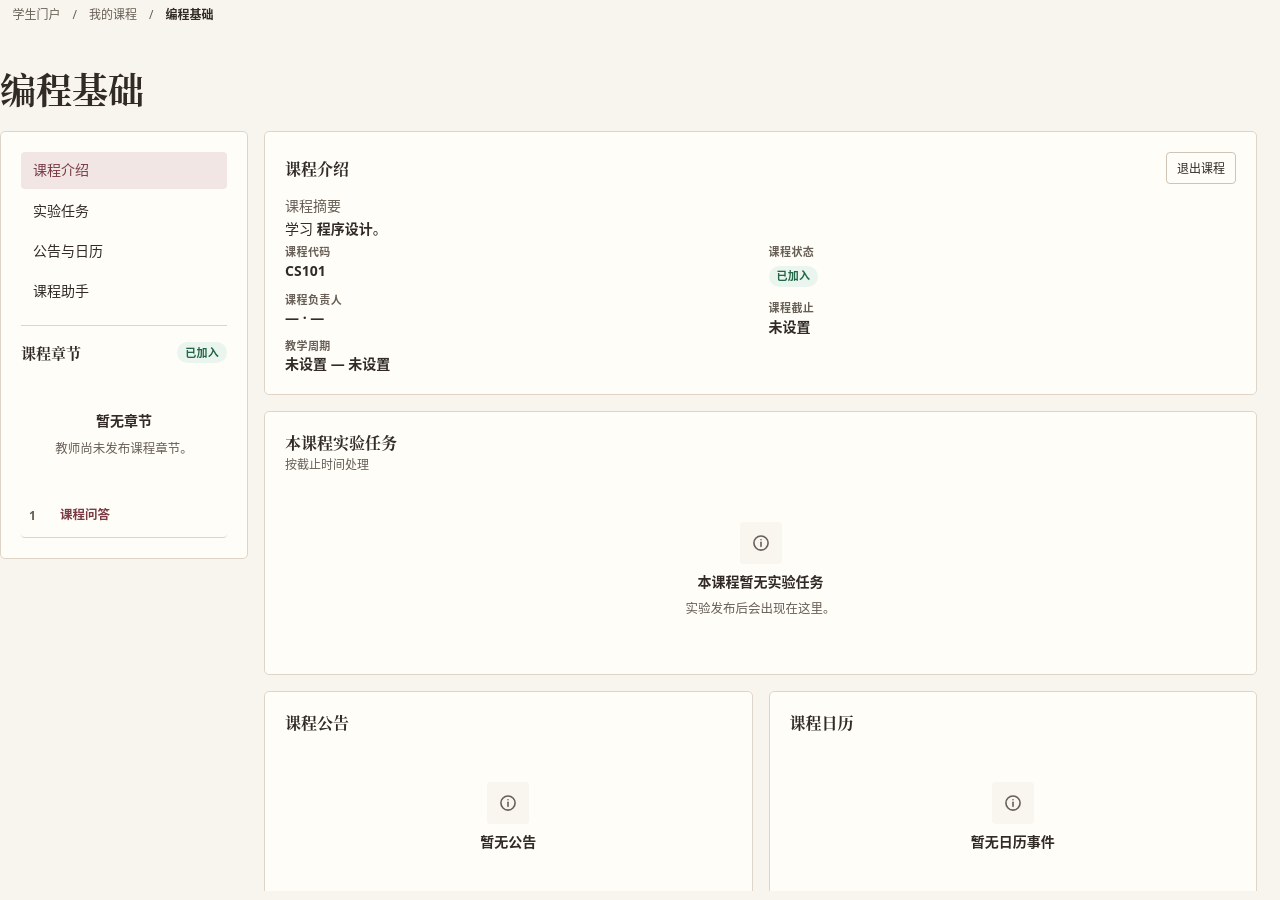
it: 课程详情中确认退出后返回课程列表
Click the button "退出课程" at [1201, 168], box [1166, 152, 1236, 184]
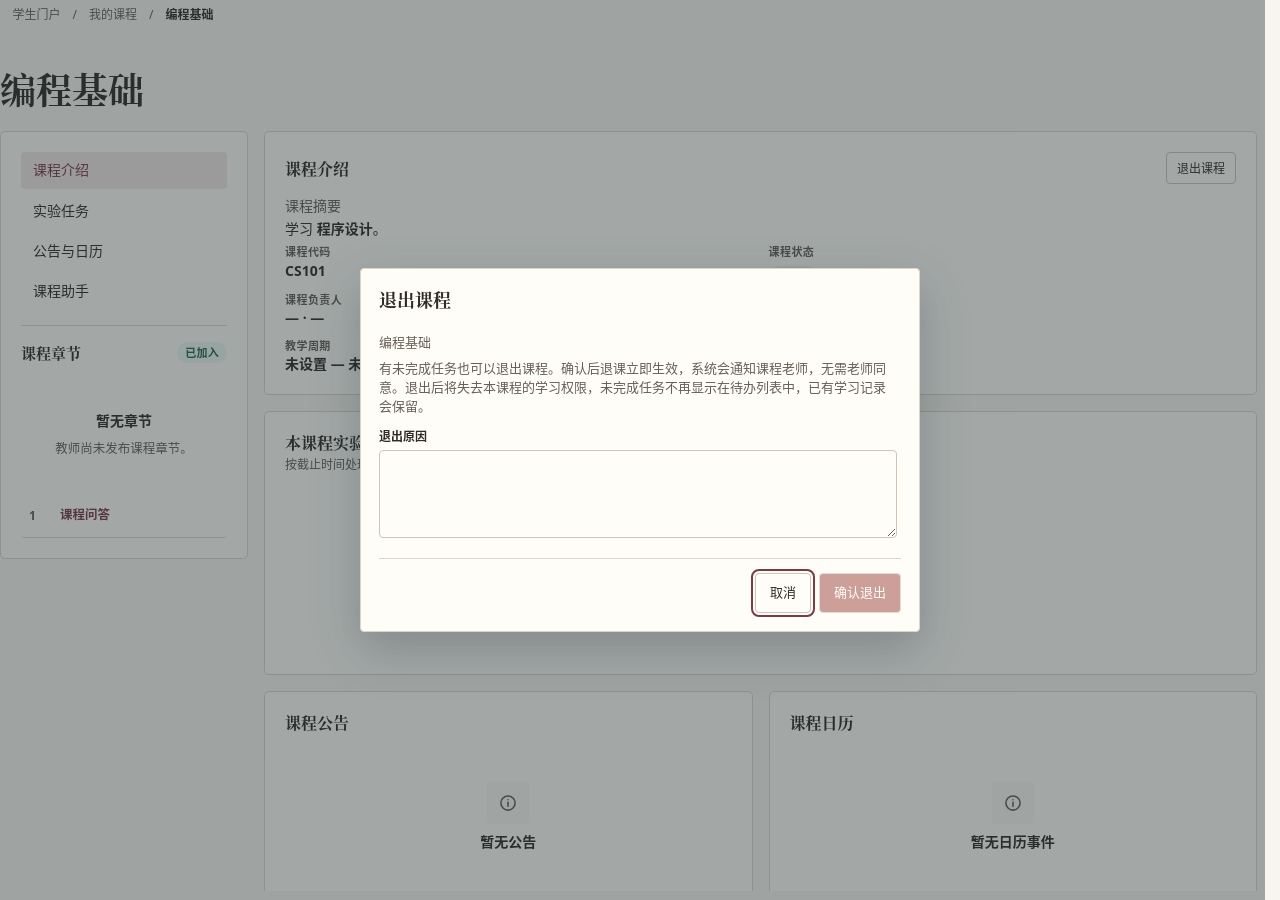
Type "选课调整" into the text box labelled "退出原因" at [638, 494], box [379, 450, 897, 538]
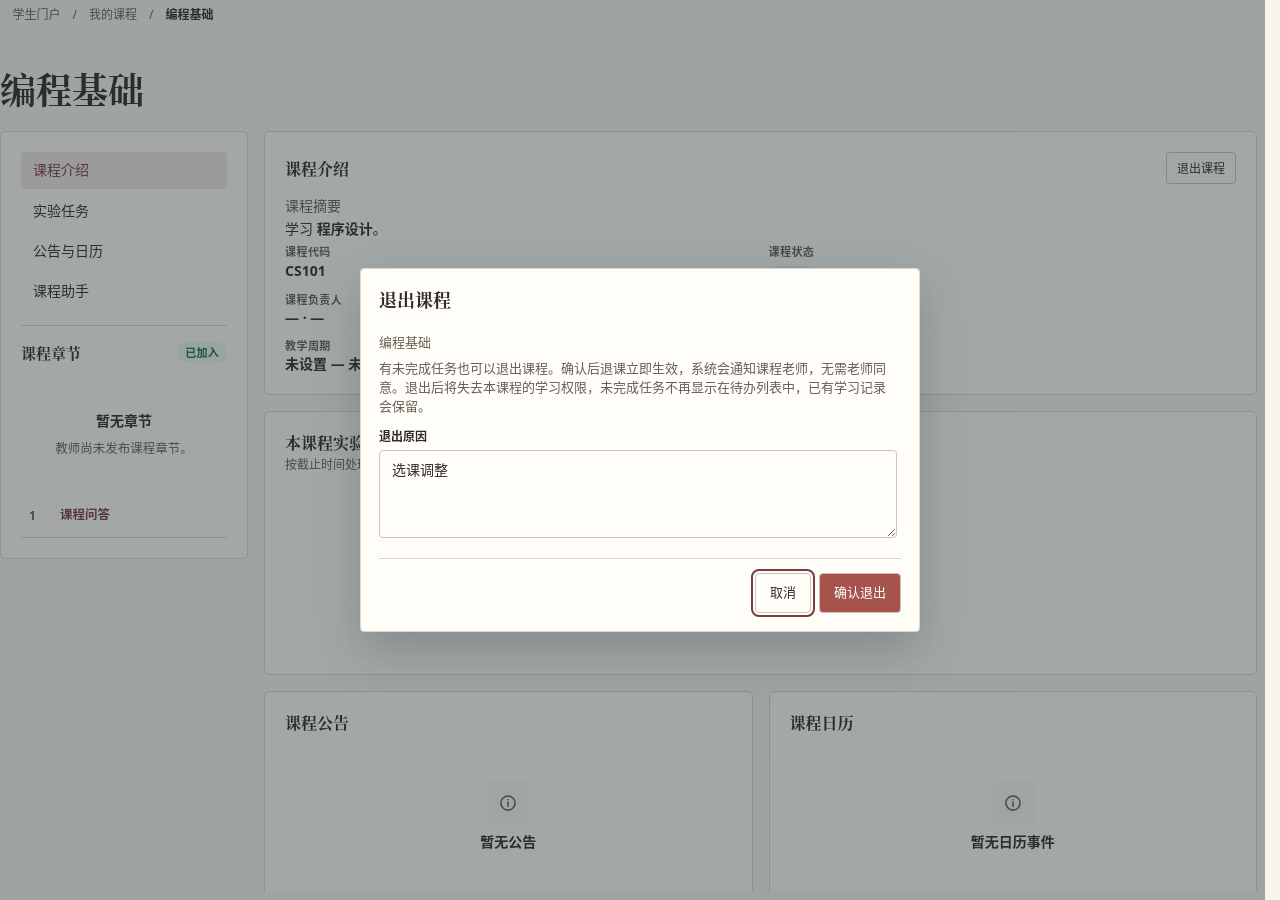
Check: the button "确认退出" is enabled
Click the button "确认退出" at [860, 593], box [819, 573, 901, 613]
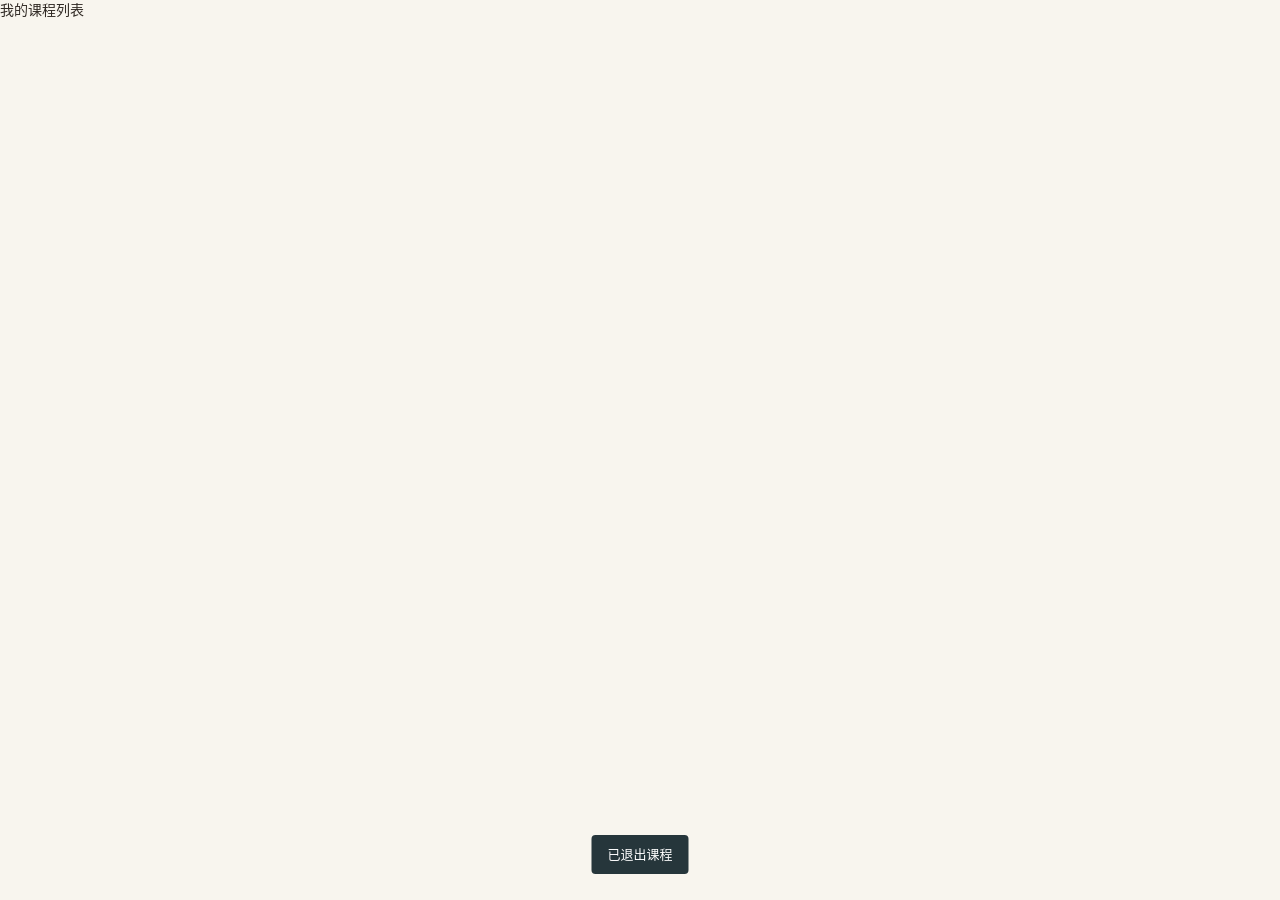
Check: the text "我的课程列表" is shown, box [0, 0, 84, 19]
